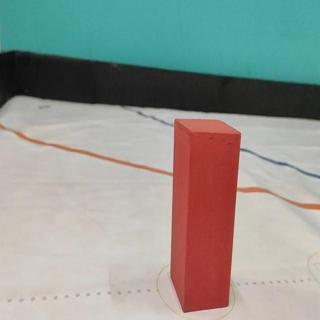redbox: (169, 117, 242, 314)
